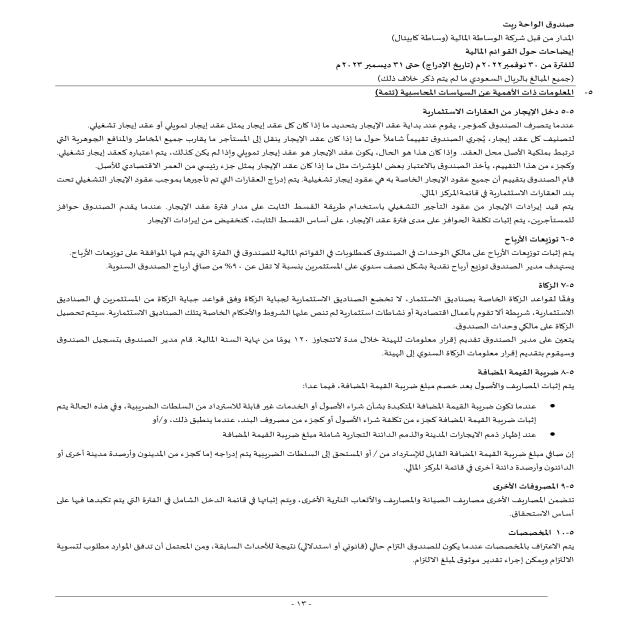notes: (458, 44, 578, 61)
text: (39, 85, 586, 582)
